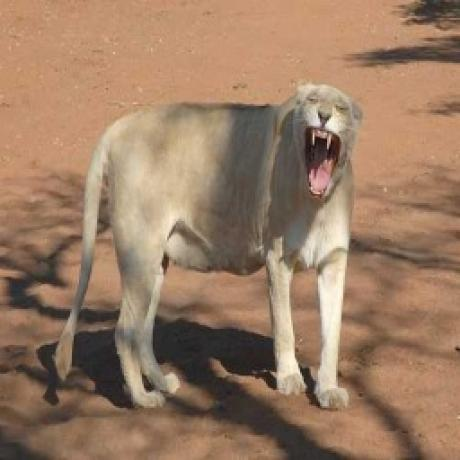Lion: (45, 79, 379, 414)
